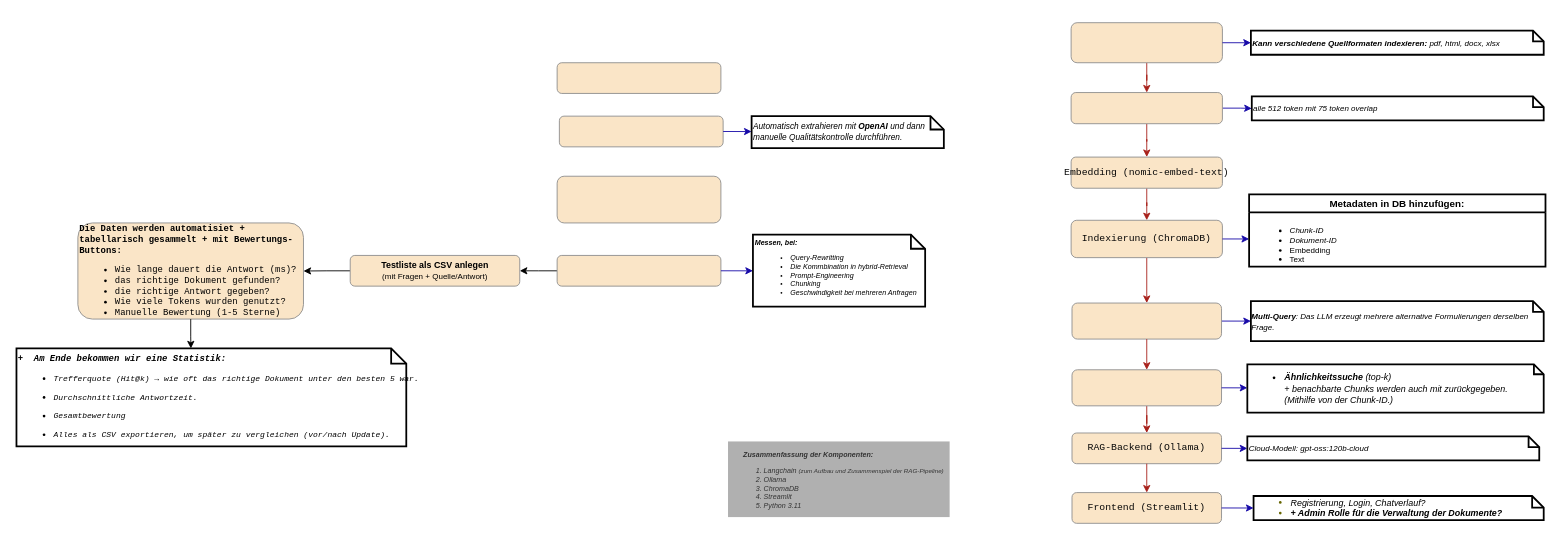
The diagram is 1561 pixels wide and 543 high, and some of its shapes have lost their labels. Each missing label, with the centre of its shape:
Antwortqualität messen ( Evaluation-Seite mit Streamlit entw.): point 638,270
Automatische Aktualisierung der Dokumente (mit watchdog "Python-Bibliothek" ): point 638,199
Chunking ( LangChain): point 1146,108
Dokumente laden, in MK umwandeln, bereinigen (Langchain): point 1146,42
Finetuning (Auf spezifische Fragen trainieren): point 640,131
Online hosten (Fly.io `kostenlos`): point 638,77
Query-Rewriting (Ollama): point 1146,320
Retrieval (LangChain): point 1146,387
